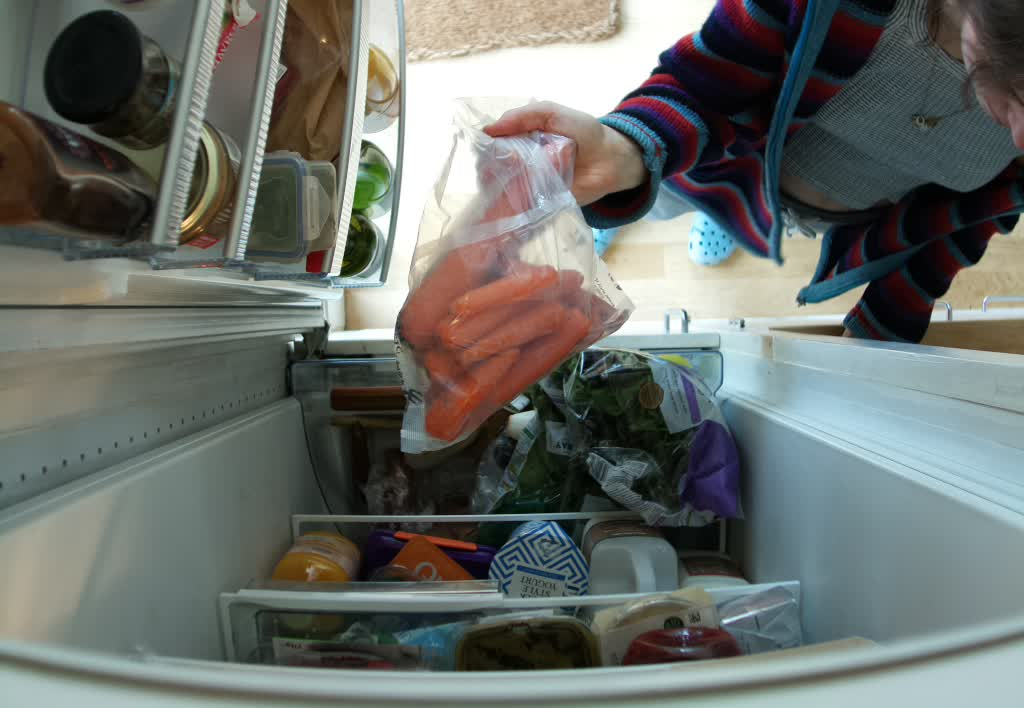carrot: (401, 138, 624, 443)
